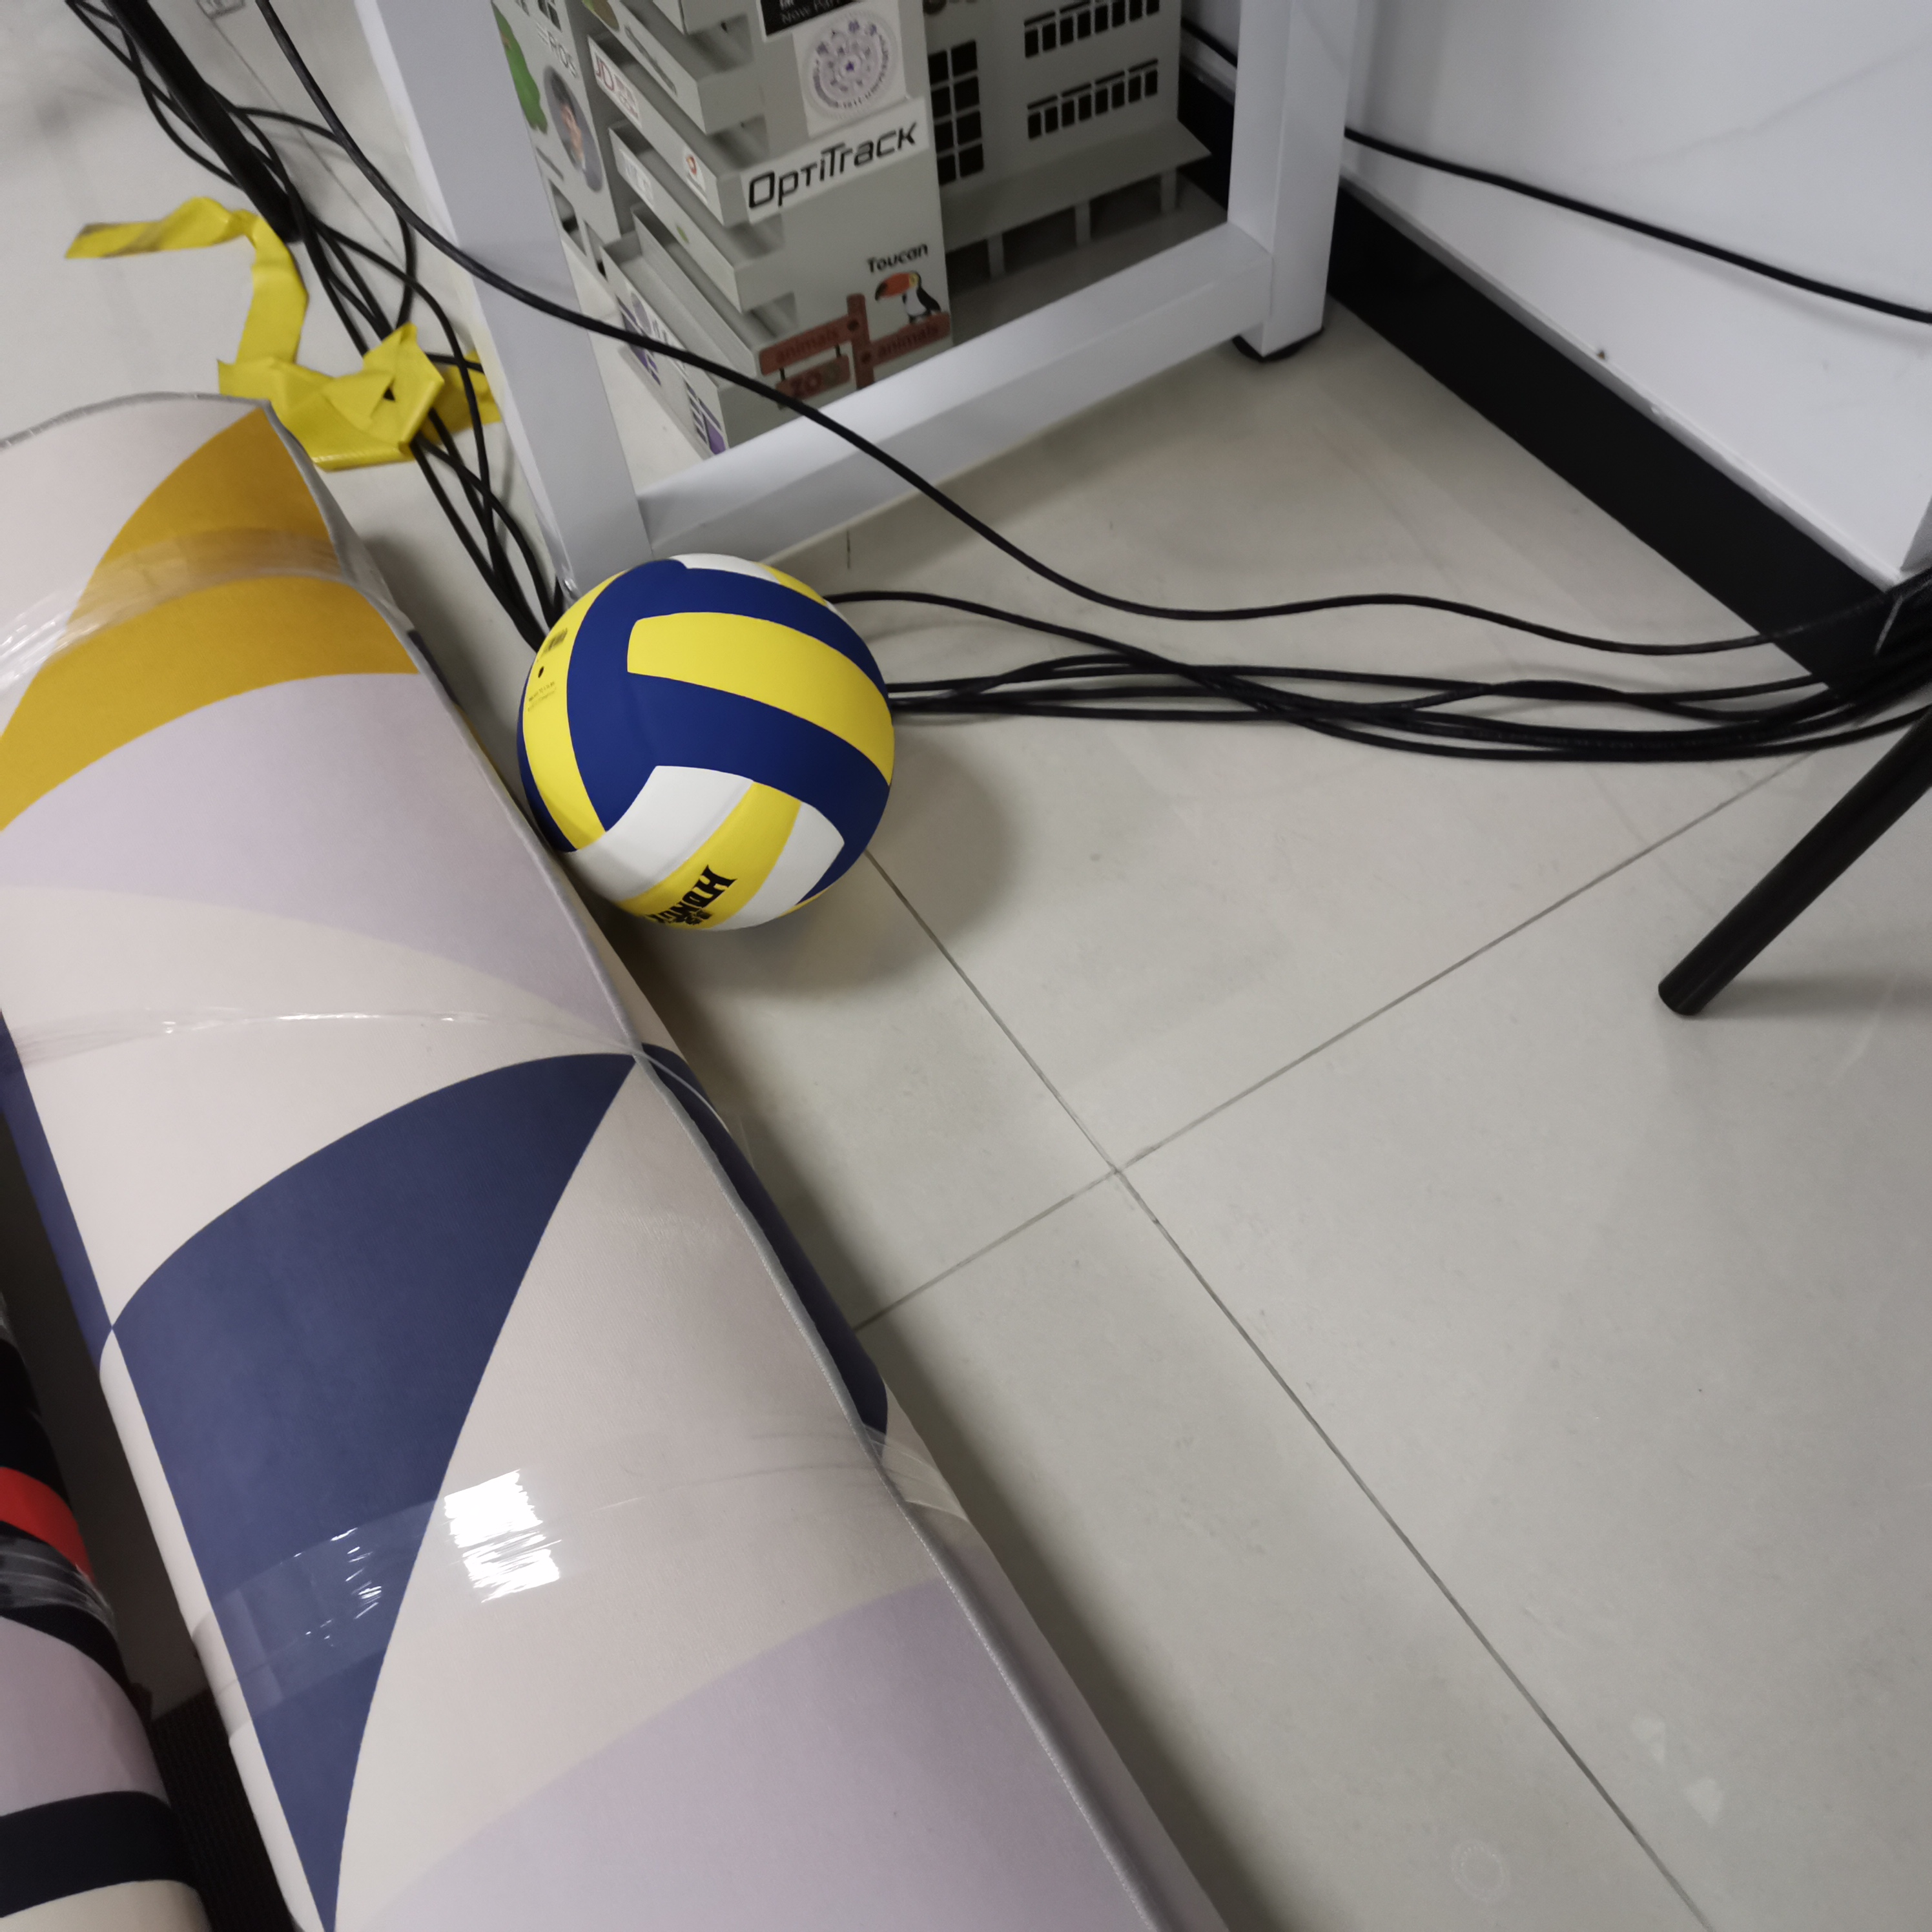volleyball: (522, 557, 897, 939)
